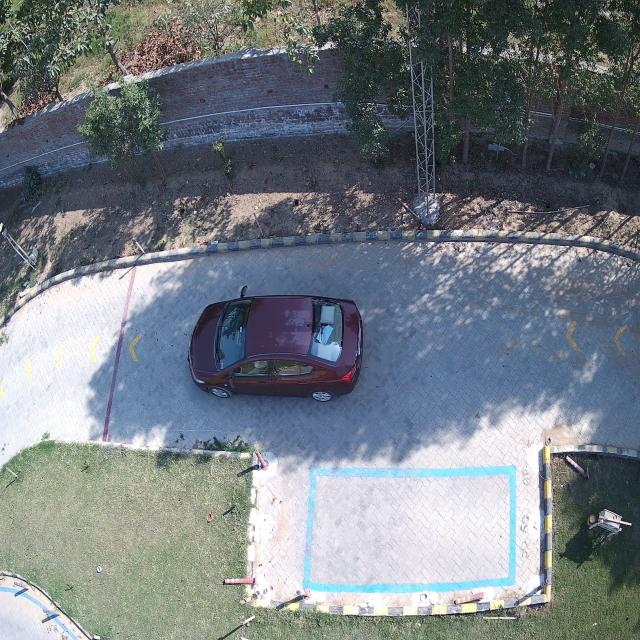car: (188, 295, 364, 400)
